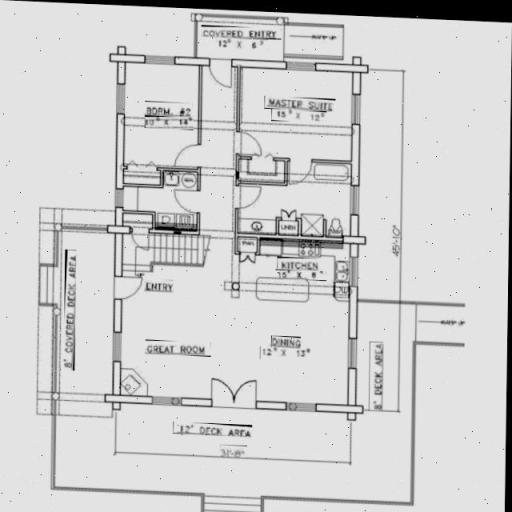bedroom: (126, 54, 204, 168)
hall: (128, 262, 237, 394), (240, 68, 350, 196)
kitchen: (234, 246, 346, 397)
